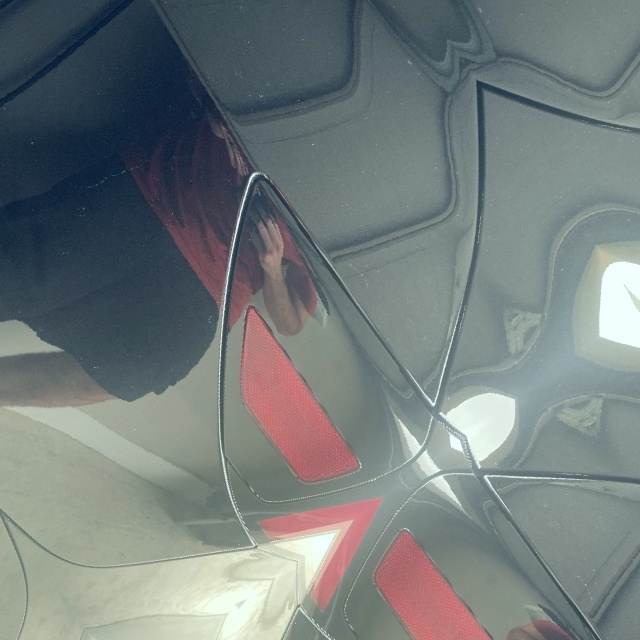reflector: (199, 305, 368, 504)
